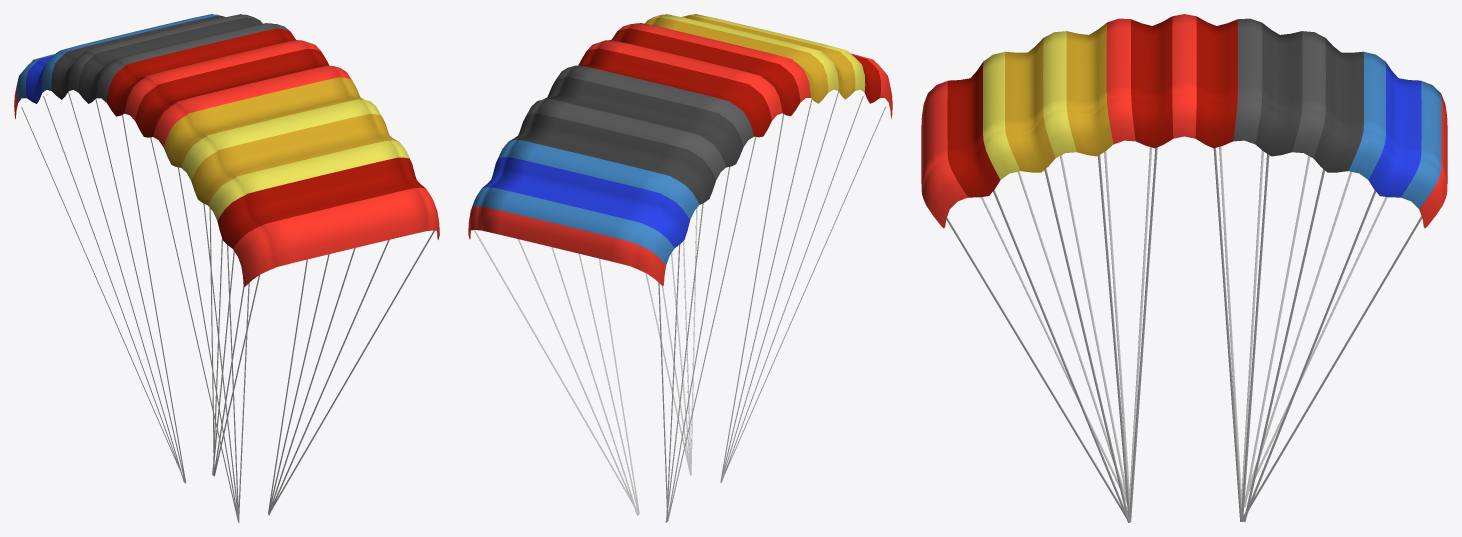
File: parasut.fbx
3 renders of one model, left to right at view 1: azimuth 30°, elevation 25°; view 2: azimuth 150°, elevation 25°; view 3: azimuth 270°, elevation 25°, orthographic. The views are drawn at different scales.
Visible parts, largest first — view 1: Plane, Cube; view 2: Plane, Cube; view 3: Plane, Cube.
Boxes of the visible parts, bbox=[...] form: Plane: bbox=[14, 14, 439, 286]; Cube: bbox=[21, 92, 434, 522]; Plane: bbox=[468, 14, 892, 285]; Cube: bbox=[473, 91, 885, 522]; Plane: bbox=[921, 14, 1447, 228]; Cube: bbox=[946, 146, 1422, 522].
Bounding box in the file's own units: 84.38 × 183 × 188.
